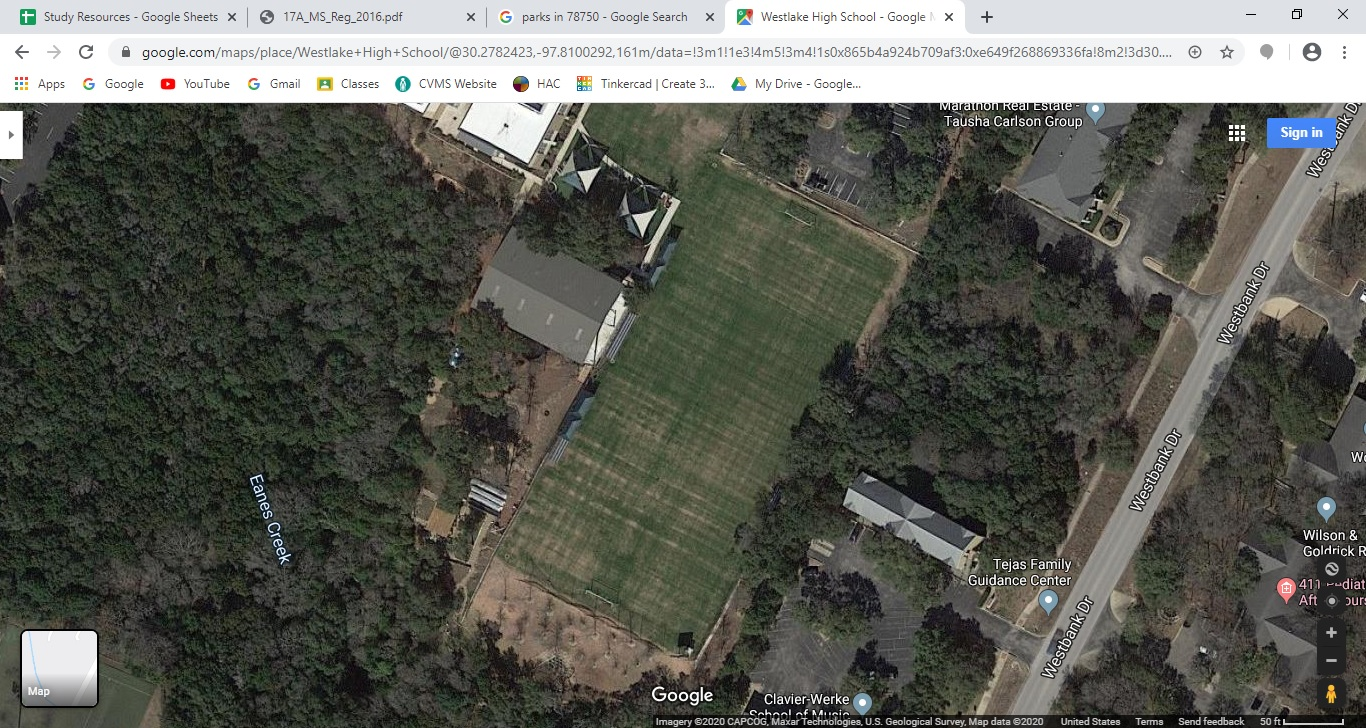soccer: (448, 144, 927, 688)
